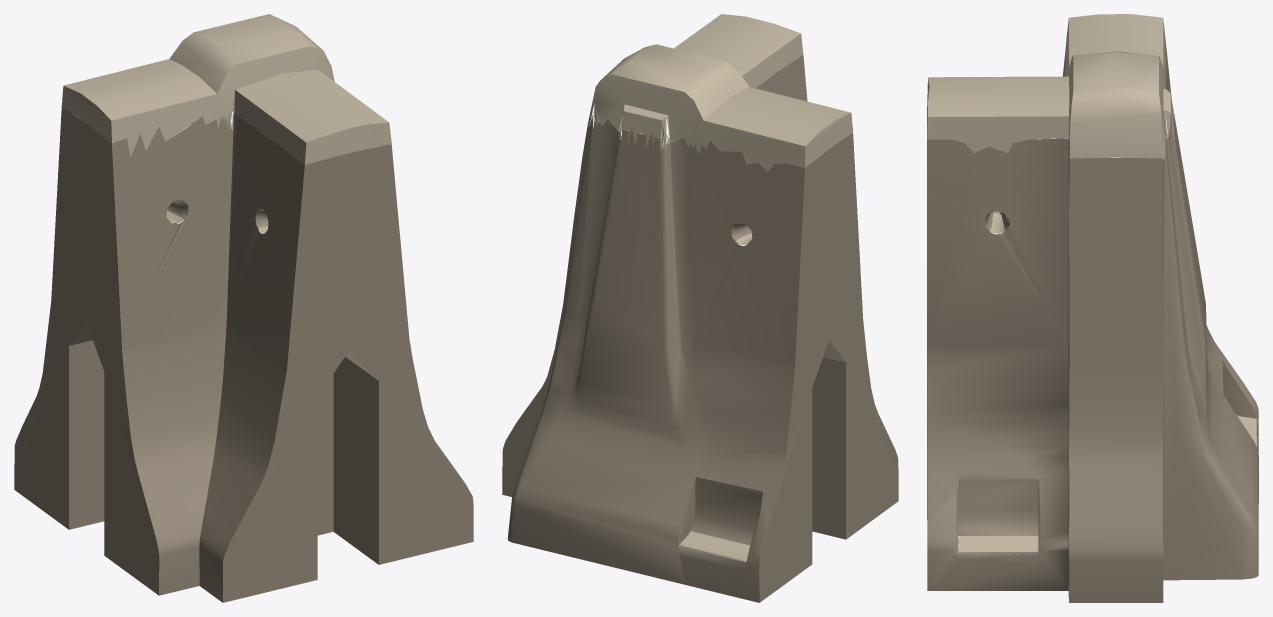
The model's file is stone-wall-sw.glb.
3 views of the same model, side by side, from view 1: azimuth 30°, elevation 25°; view 2: azimuth 150°, elevation 25°; view 3: azimuth 270°, elevation 25° (orthographic). The views are drawn at different scales.
Visible parts, largest first — view 1: body; view 2: body; view 3: body.
Boxes of the visible parts, left/top/right/bottom form: body: left=14, top=14, right=473, bottom=602; body: left=502, top=14, right=898, bottom=602; body: left=927, top=14, right=1258, bottom=602.
Size of the model in its own units: 0.9379 by 1.33 by 0.8639.
